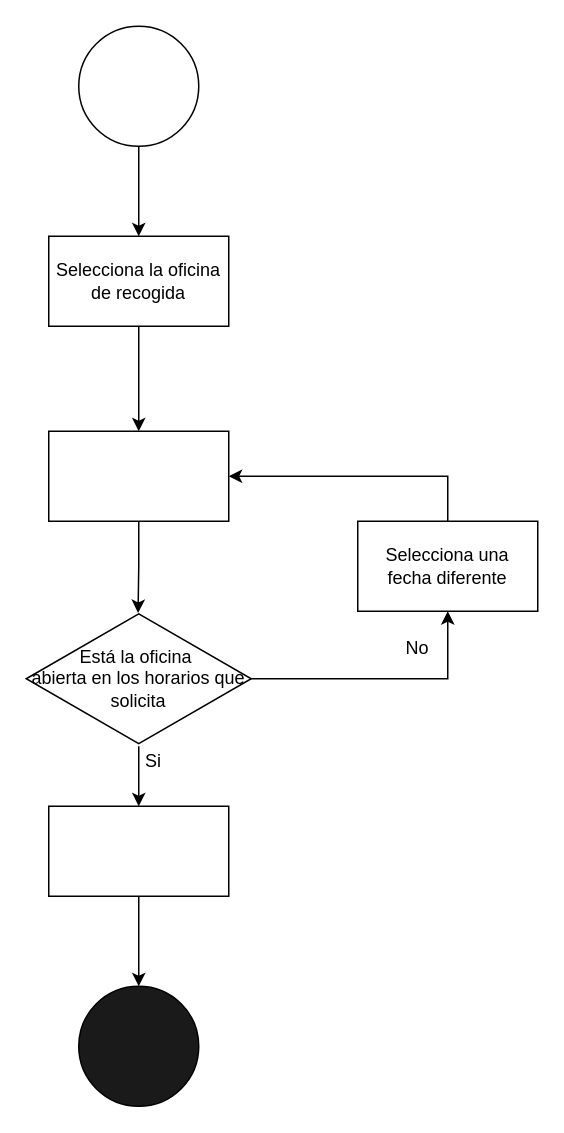
This 564x1133 diagram has some shape labels left out. The centre of each missing label's shape, as x and y in pixels:
"Se asigna el vehículo al contrato" goes at point (138, 850).
"Selecciona la fecha de recogida y devolucón" goes at point (138, 475).
